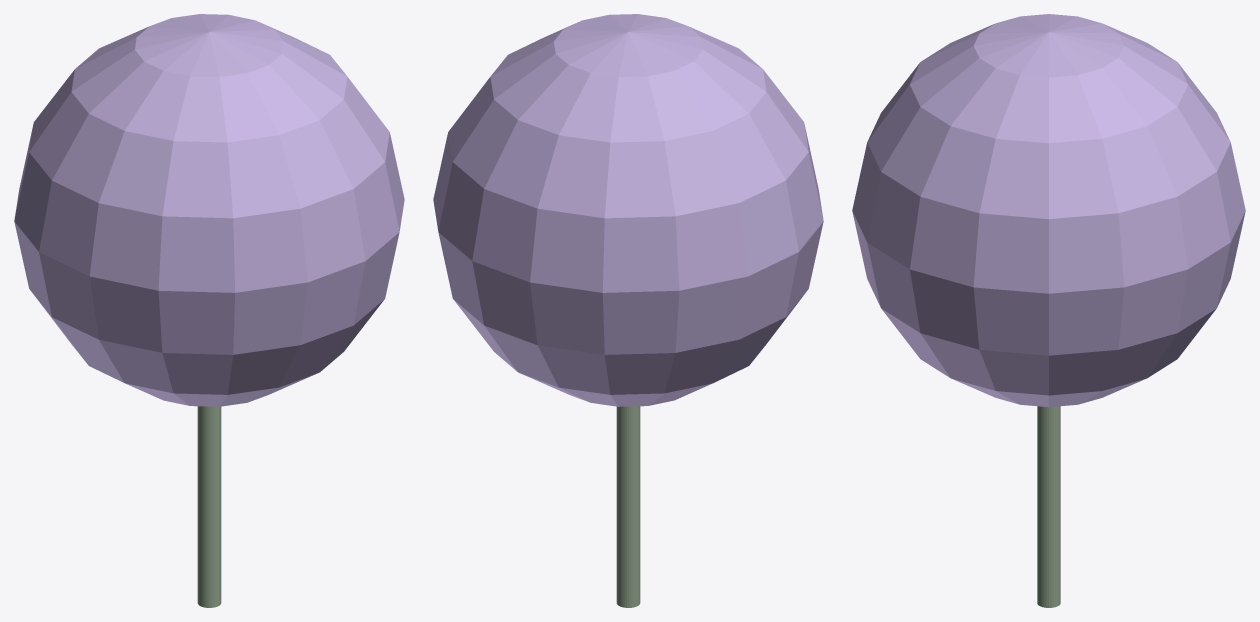
File: _smoke.glb
3 views of the same model, side by side, from view 1: azimuth 30°, elevation 25°; view 2: azimuth 150°, elevation 25°; view 3: azimuth 270°, elevation 25° (orthographic).
Parts seen in each view (by area): view 1: SmokeBloom, SmokeStem; view 2: SmokeBloom, SmokeStem; view 3: SmokeBloom, SmokeStem.
Part boxes in pixels (x1,y1,x2,y2): SmokeBloom: (14,14,404,406); SmokeStem: (197,406,221,607); SmokeBloom: (433,14,823,406); SmokeStem: (616,406,640,607); SmokeBloom: (852,14,1245,407); SmokeStem: (1037,406,1060,607).
Size of the model in its own units: 1 by 1.6 by 1.
